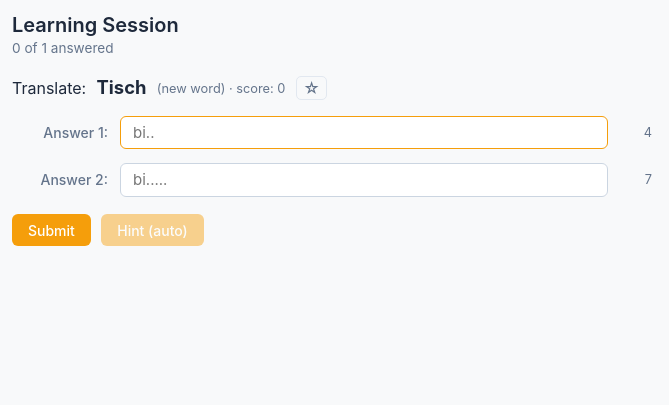
TrainingScreen › shows partially correct status when outcome is partial
In the field named "Answer 1:": (364, 132) 120,116 -> 608,149, type "bicycle"
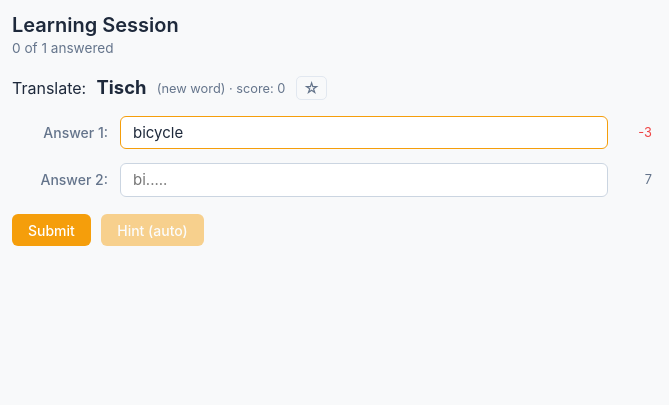
In the field named "Answer 2:": (364, 180) 120,163 -> 608,197, type "wrong"
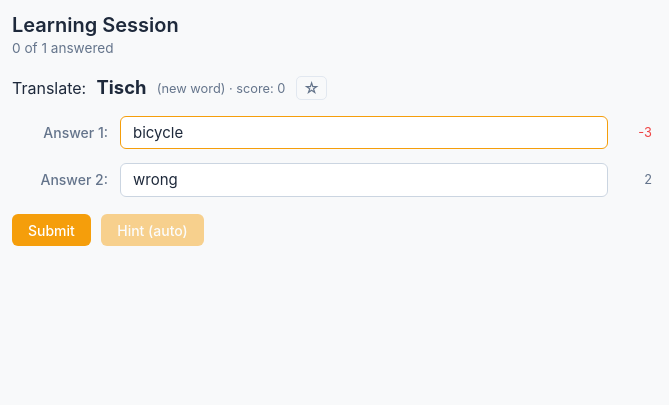
Click the button "Submit": (51, 230) 12,214 -> 91,246
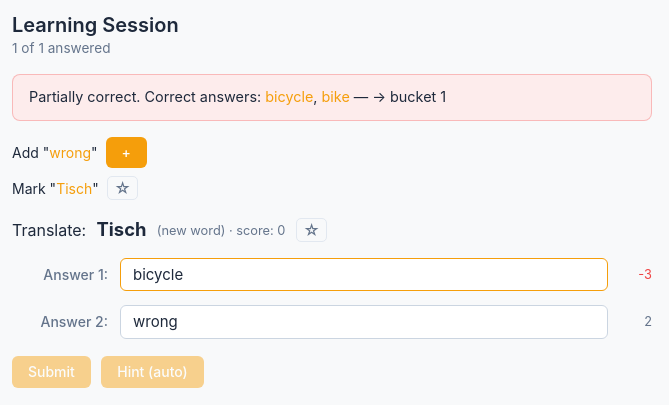
Result: the message reads "Partially correct. Correct answers: bicycle , bike — → bucket 1" at 12,74 -> 652,121
